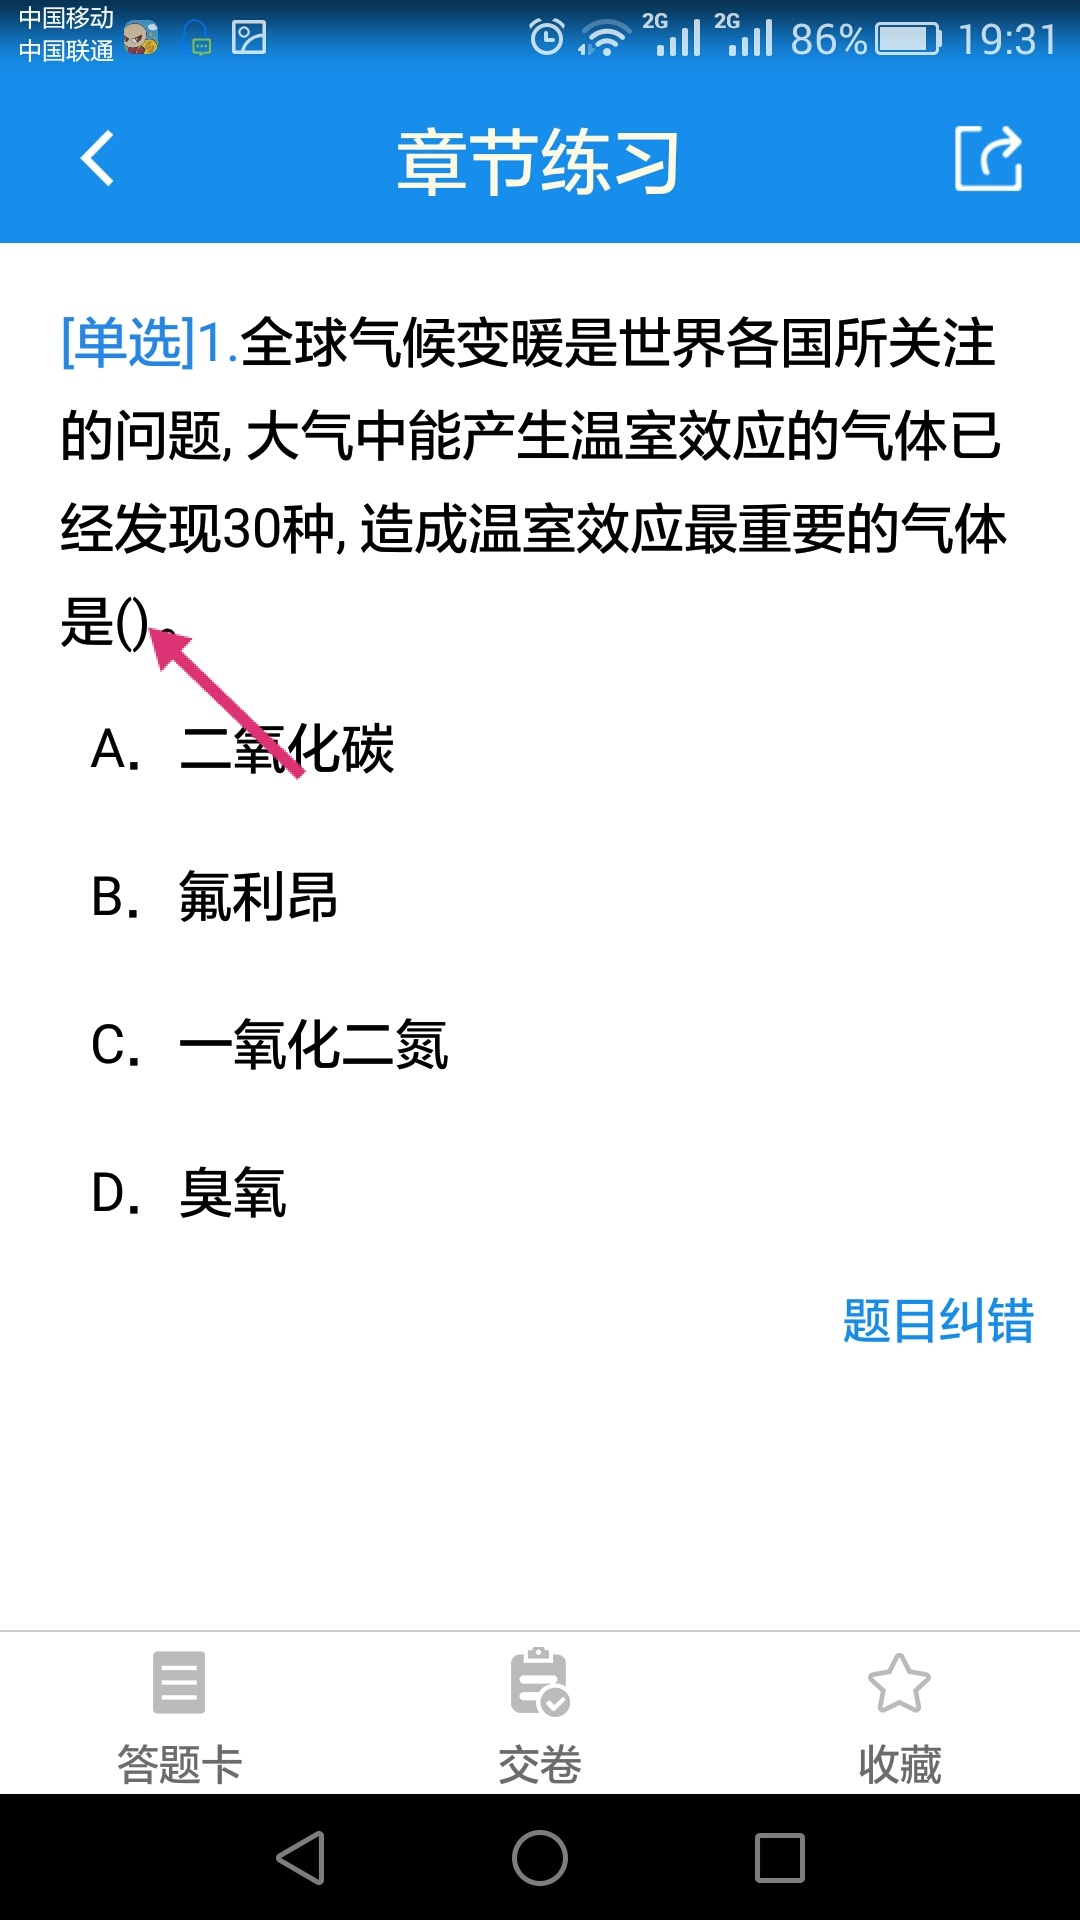imgbutton: (924, 78, 1063, 231)
nav: (15, 1627, 1071, 1792)
textview: (41, 280, 1054, 1386)
